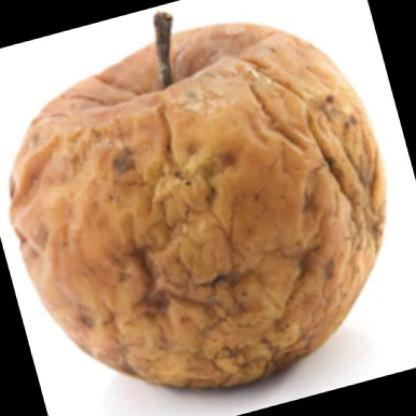defect: (25, 28, 379, 393)
